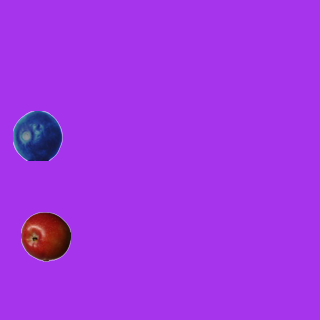Apple Braeburn: (20, 211, 70, 261)
Huckleberry: (12, 110, 62, 160)
